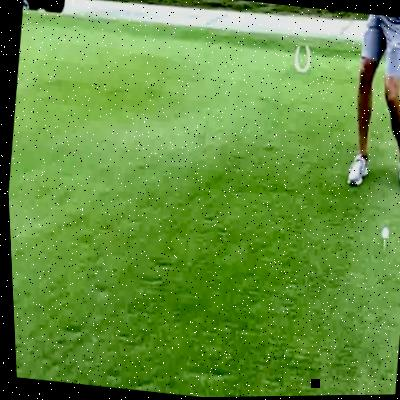ClubHead: (377, 227, 388, 242)
